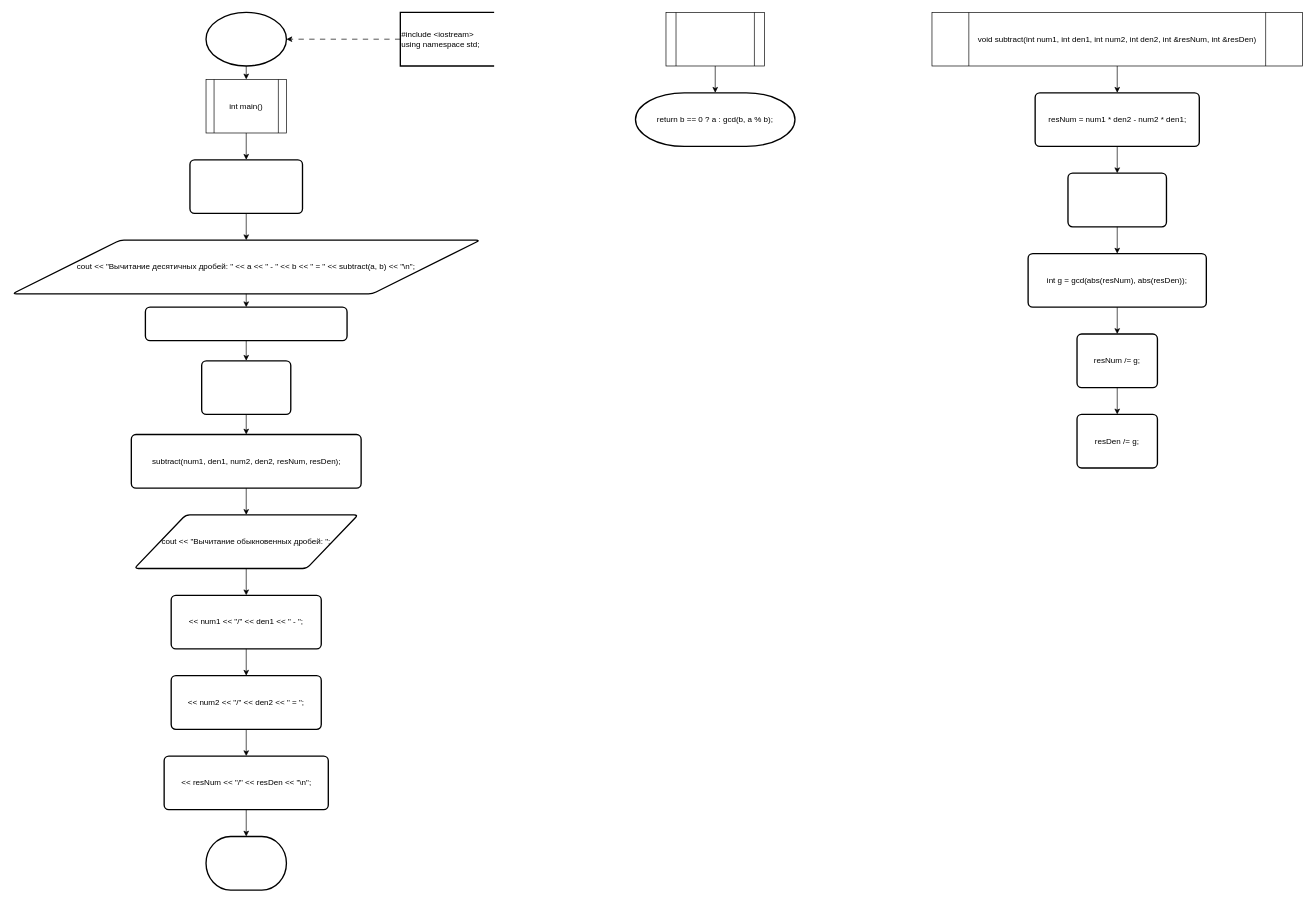
Image size: 1314x902. Some labels were removed from this diagram. The centre of each missing label's shape, as x and y in pixels:
"double a = 8.5, b = 3.2;" belongs at (246,186).
"int gcd(int a, int b)" belongs at (714,39).
"int num1 = 3, den1 = 4, num2 = 1, den2 = 2;" belongs at (245,323).
"int resNum, resDen;" belongs at (246,387).
"resDen = den1 * den2;" belongs at (1117,199).
"return 0;" belongs at (246,862).
"Начало" belongs at (246,38).
